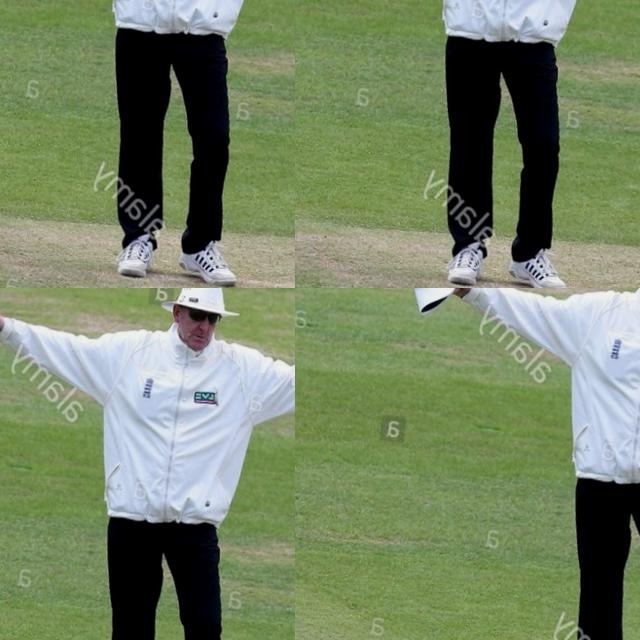No_Ball: (0, 0, 295, 288), (451, 288, 640, 640)
Wide: (0, 288, 295, 640)
